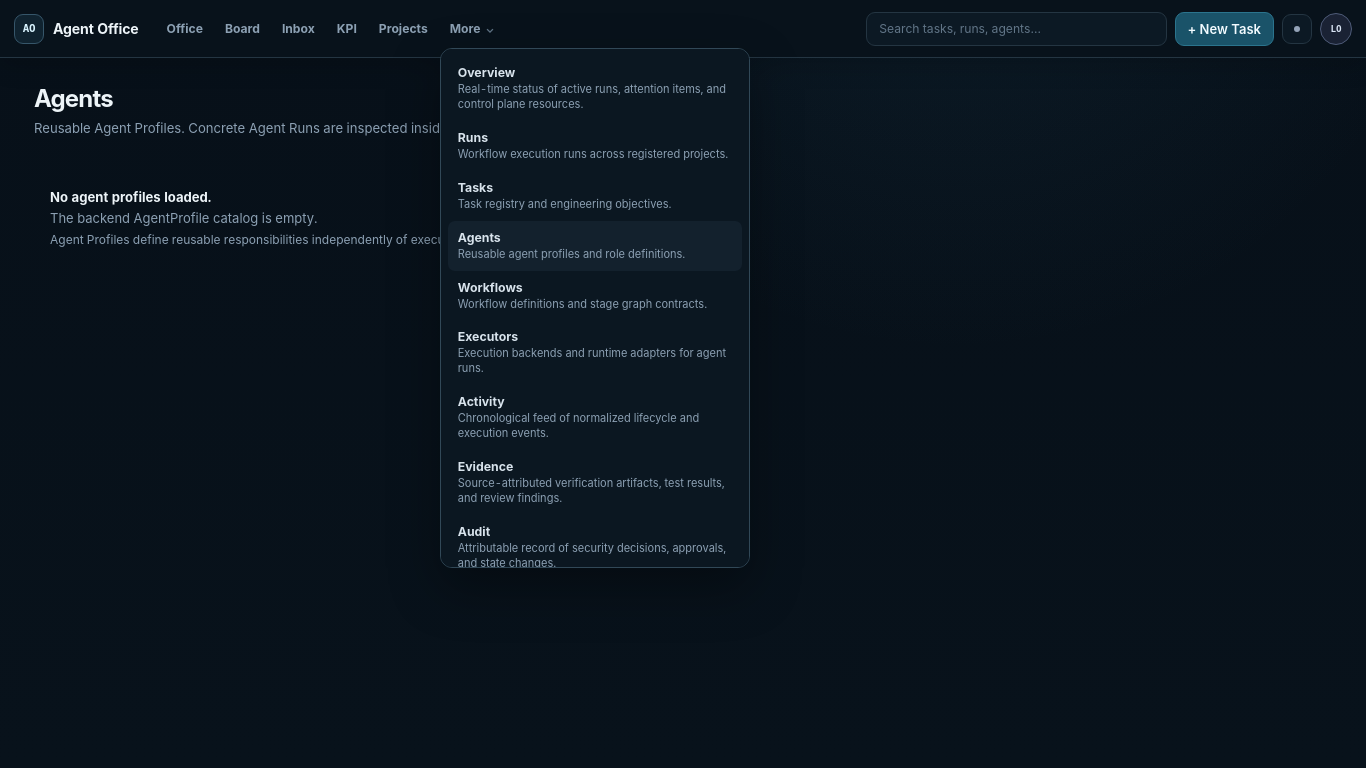
Test: Agent Office operational shell › loads engineering registries from backend-backed pages
Expected: the heading "No agent profiles loaded." is shown, top-left (50, 189), bottom-right (211, 205)
Click the link "Workflows". click: (582, 295)
box: top-left (458, 280), bottom-right (707, 310)
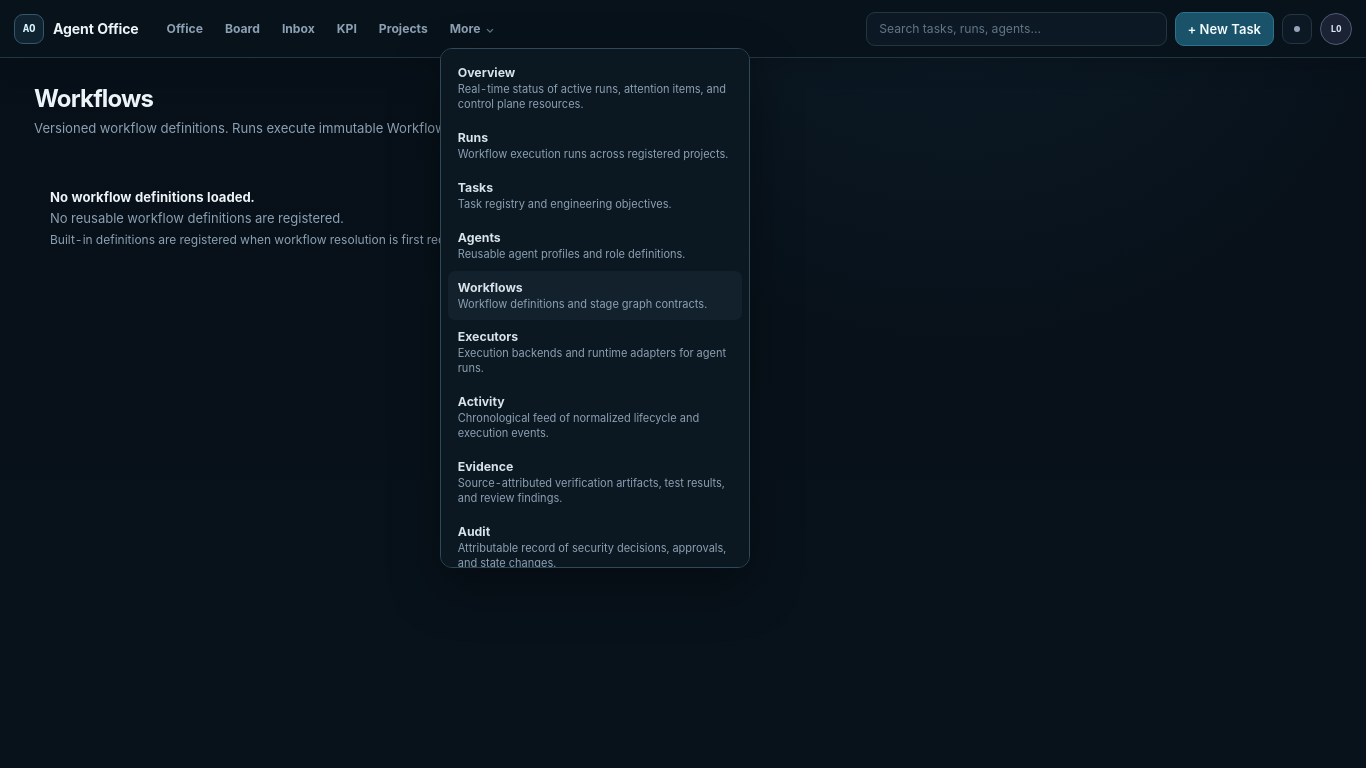
Result: the heading "No workflow definitions loaded." is shown at top-left (50, 189), bottom-right (254, 205)
Click the link "Executors". click: (595, 353)
box: top-left (448, 320), bottom-right (742, 385)
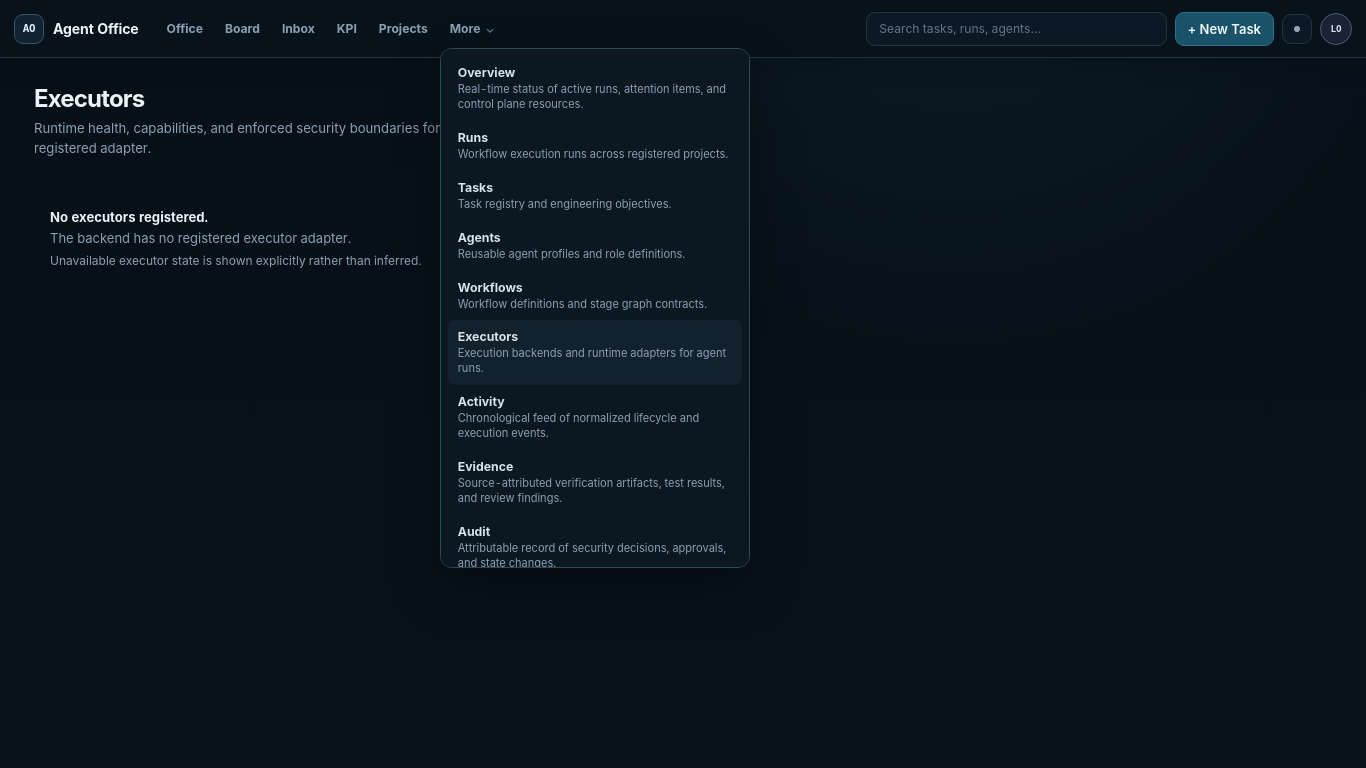
Result: the heading "No executors registered." is shown at top-left (50, 209), bottom-right (208, 225)
